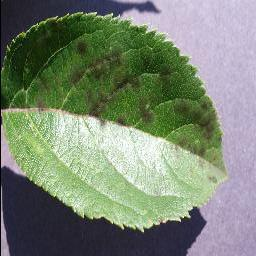apple healthy: (0, 10, 228, 232)
